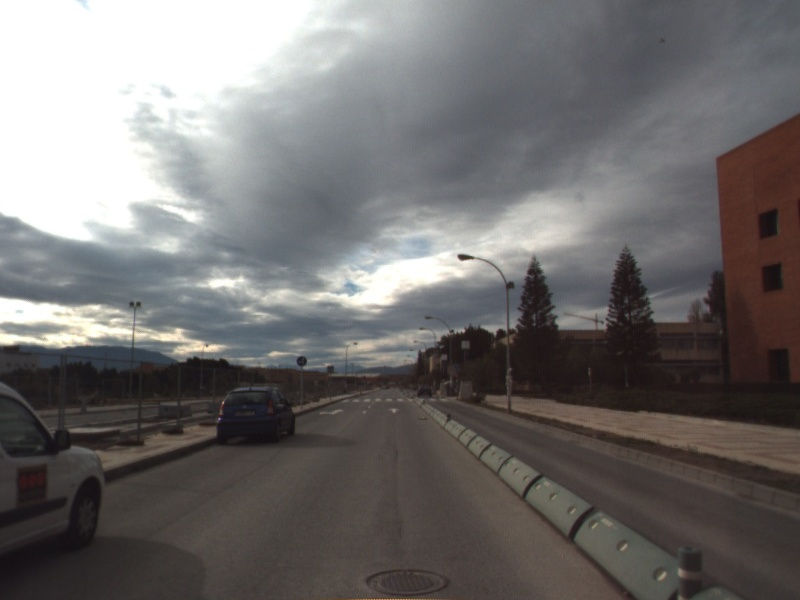STRAIGHT: (386, 406, 402, 415)
STRAIGHT_LEFT: (317, 406, 346, 417)
